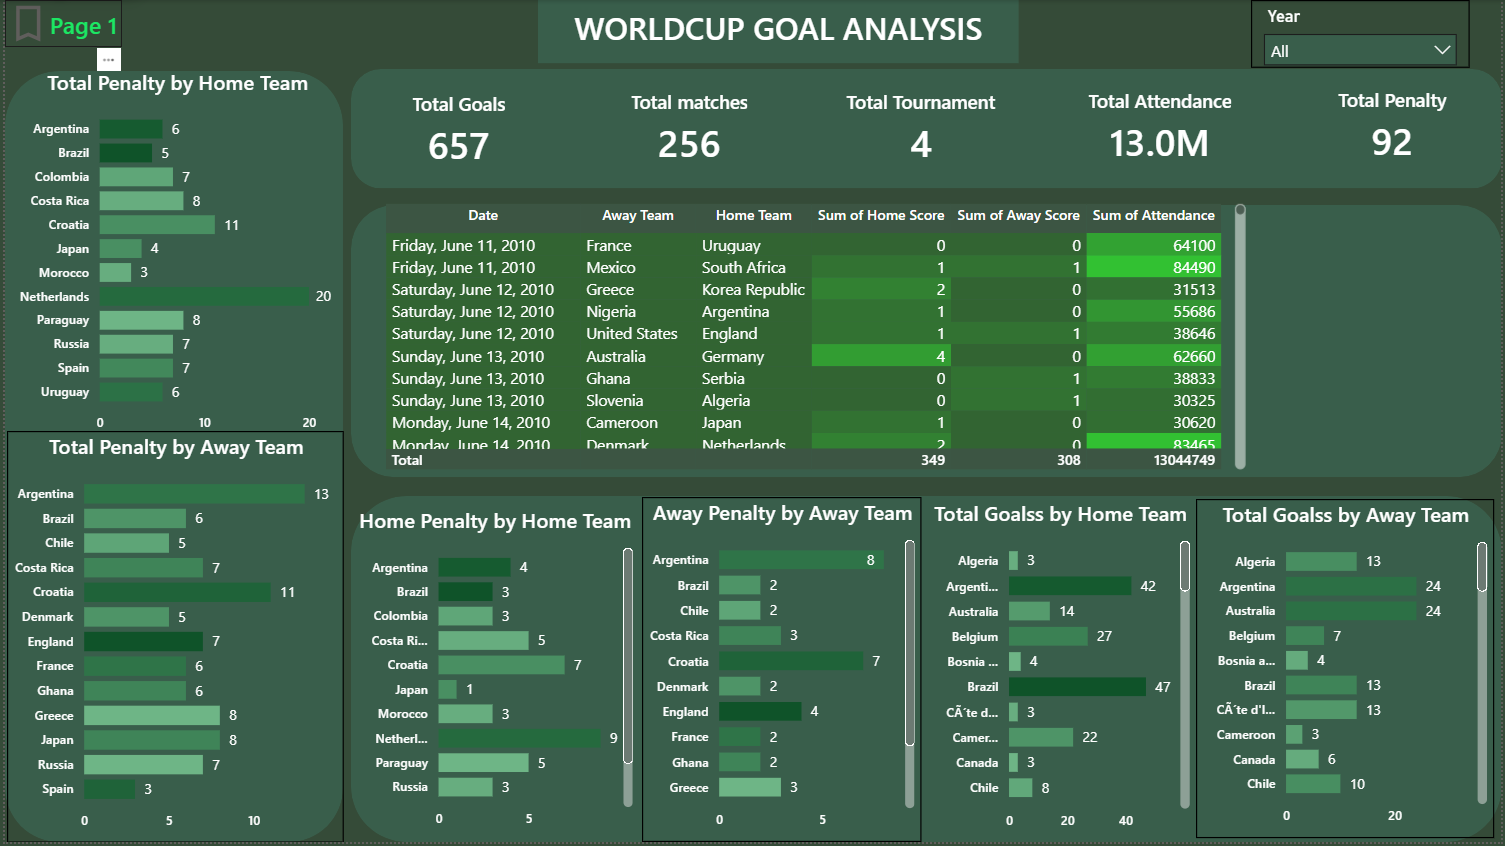

The dashboard page shown, as its layout file describes it:
{"tool":"powerbi","page":{"name":"World cup","canvas":[1280,720],"ordinal":0},"visuals":[{"type":"group","id":"g1","title":"Background","box":[0,58.9,1280,661.1],"z":0},{"type":"lineChart","title":"Annual Goals ","fields":{"Category":["World Cup.Year"],"Y":["World Cup.Toal Goalss"]},"box":[0,60.7,289,194.1],"z":0,"group":"g2"},{"type":"shape","box":[295.7,174.9,984.3,232.8],"z":0,"group":"g1"},{"type":"shape","box":[0,60.7,289,659.3],"z":1000,"group":"g1"},{"type":"cardVisual","fields":{"Data":["World Cup.Toal Goalss"]},"box":[303.9,61.8,169.6,97.2],"z":1000},{"type":"clusteredColumnChart","title":"Home And Away Goal Distribution","fields":{"Y":["Sum(World Cup.Home Xg)","Sum(World Cup.Away Xg)"]},"box":[0,474.6,289,245.4],"z":1000,"group":"g2"},{"type":"cardVisual","fields":{"Data":["World Cup.Total matches"]},"box":[492,59.2,187.3,99.8],"z":2000},{"type":"donutChart","title":"Match Result Distribution","fields":{"Category":["World Cup.Match Result"],"Y":["World Cup.Total matches"]},"box":[303.6,182.1,354.9,225.7],"z":2000,"group":"g2"},{"type":"shape","box":[295.9,424,984.1,295.9],"z":2000,"group":"g1"},{"type":"shape","box":[295.7,58.9,984.3,102.2],"z":3000,"group":"g1"},{"type":"cardVisual","fields":{"Data":["World Cup.Total Tournament"]},"box":[689,62.2,188.2,94.6],"z":3000},{"type":"barChart","title":"Goals by Away Team","fields":{"Category":["World Cup.Away Team"],"Y":["World Cup.Total Goalss"]},"box":[987.6,424,292.4,295.9],"z":3000,"group":"g2"},{"type":"cardVisual","fields":{"Data":["World Cup.Total Attendance"]},"box":[893.6,60.7,188.1,96.6],"z":4000},{"type":"barChart","title":"Goals by Home Team","fields":{"Category":["World Cup.Home Team"],"Y":["World Cup.Total Goalss"]},"box":[665.2,424,315.4,295.9],"z":4000,"group":"g2"},{"type":"cardVisual","fields":{"Data":["World Cup.Total Penalty"]},"box":[1092.8,54.7,187.3,106],"z":5000},{"type":"lineChart","title":"Attendance Trend by Year","fields":{"Category":["World Cup.Year"],"Y":["World Cup.Total Attendance"]},"box":[0,269.3,288.2,193.3],"z":5000,"group":"g2"},{"type":"textbox","title":"Text box 1","box":[477,0,388.7,45.9],"z":6000},{"type":"lineStackedColumnComboChart","title":"Annual Goals and XG ","fields":{"Y":["World Cup.Total Goalss"],"Category":["World Cup.Year"],"Y2":["World Cup.Total XG"]},"box":[665.2,182,315.4,226.1],"z":6000,"group":"g2"},{"type":"group","id":"g2","title":"Page 1","box":[0,60.7,1280.1,659.3],"z":7000},{"type":"barChart","title":"Matches by Host Country","fields":{"Y":["World Cup.Total matches"],"Category":["World Cup.Host Country"]},"box":[995.3,182.1,284.8,225.7],"z":7000,"group":"g2"},{"type":"columnChart","title":"Matches by Round","fields":{"Y":["World Cup.Total matches"],"Category":["World Cup.Round"]},"box":[303.9,424,355.1,286.2],"z":8000,"group":"g2"},{"type":"actionButton","title":"Button 2","box":[0,0,99.7,39.9],"z":10000},{"type":"slicer","fields":{"Values":["World Cup.Date.Variation.Date Hierarchy.Year"]},"box":[1065.5,0,187.3,58.1],"z":12000}]}

Visuals, with their boxes on the page's 1280x720 design canvas (x1, y1, x2, y2). These are canvas units, not pixel positions in the 1505x846 screenshot, which may show the page scaled, cropped or inside an application window:
"Background" group: bbox=[0, 59, 1280, 720]
"Annual Goals " lineChart: bbox=[0, 61, 289, 255]
shape: bbox=[296, 175, 1280, 408]
shape: bbox=[0, 61, 289, 720]
cardVisual - World Cup.Toal Goalss: bbox=[304, 62, 474, 159]
"Home And Away Goal Distribution" clusteredColumnChart: bbox=[0, 475, 289, 720]
cardVisual - World Cup.Total matches: bbox=[492, 59, 679, 159]
"Match Result Distribution" donutChart: bbox=[304, 182, 658, 408]
shape: bbox=[296, 424, 1280, 720]
shape: bbox=[296, 59, 1280, 161]
cardVisual - World Cup.Total Tournament: bbox=[689, 62, 877, 157]
"Goals by Away Team" barChart: bbox=[988, 424, 1280, 720]
cardVisual - World Cup.Total Attendance: bbox=[894, 61, 1082, 157]
"Goals by Home Team" barChart: bbox=[665, 424, 981, 720]
cardVisual - World Cup.Total Penalty: bbox=[1093, 55, 1280, 161]
"Attendance Trend by Year" lineChart: bbox=[0, 269, 288, 463]
"Text box 1" textbox: bbox=[477, 0, 866, 46]
"Annual Goals and XG " lineStackedColumnComboChart: bbox=[665, 182, 981, 408]
"Page 1" group: bbox=[0, 61, 1280, 720]
"Matches by Host Country" barChart: bbox=[995, 182, 1280, 408]
"Matches by Round" columnChart: bbox=[304, 424, 659, 710]
"Button 2" actionButton: bbox=[0, 0, 100, 40]
slicer - World Cup.Date.Variation.Date Hierarchy.Year: bbox=[1066, 0, 1253, 58]
